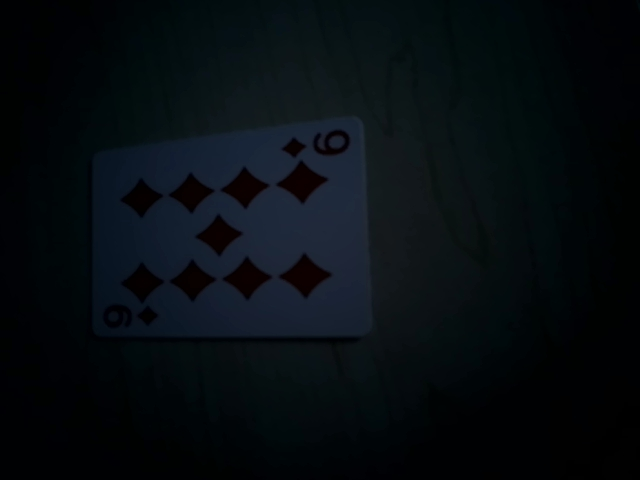fk 9: (275, 120, 356, 164), (95, 301, 163, 342)
